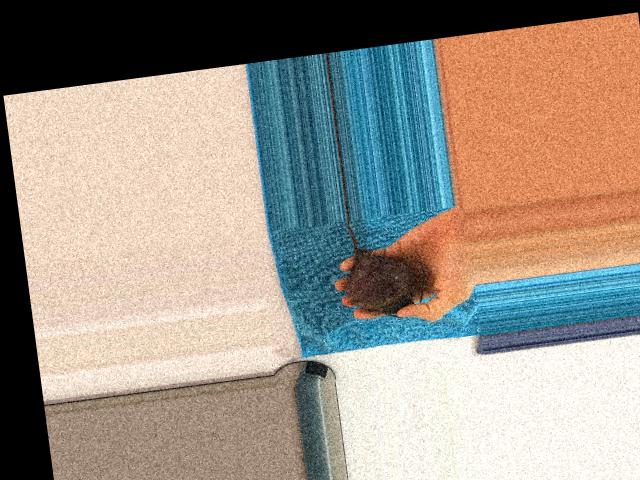beet: (336, 210, 429, 323)
